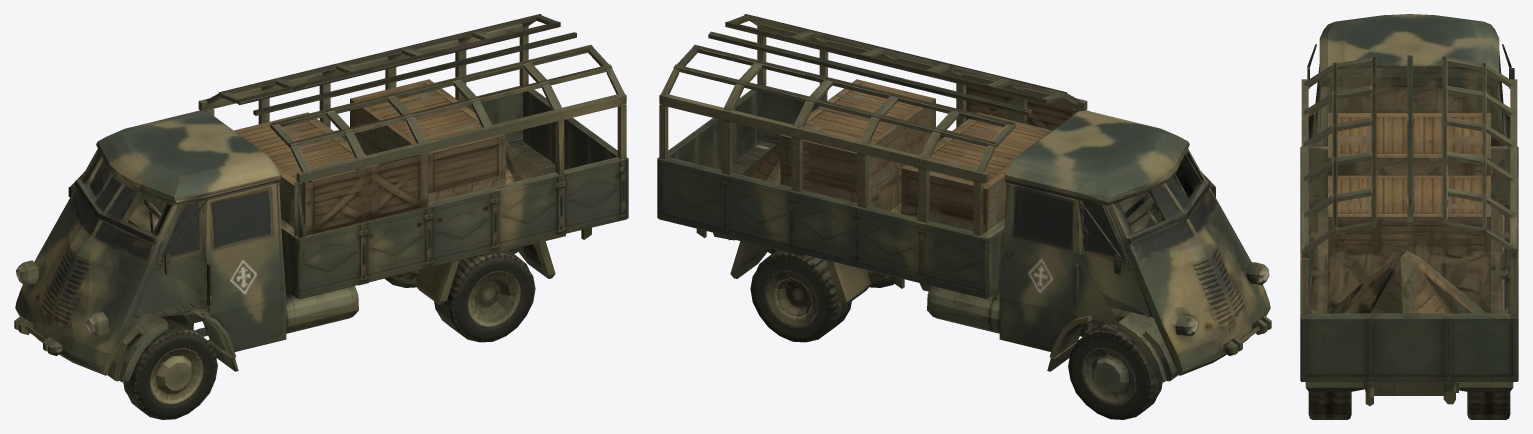
File: french_transport.glb
The picture shows the model from 3 angles, left to right: view 1: azimuth 30°, elevation 25°; view 2: azimuth 150°, elevation 25°; view 3: azimuth 270°, elevation 25°; orthographic projection. The views are drawn at different scales.
Bounding box in the file's own units: 1.9 × 0.8102 × 0.6145.
1 material, 1 textured.
